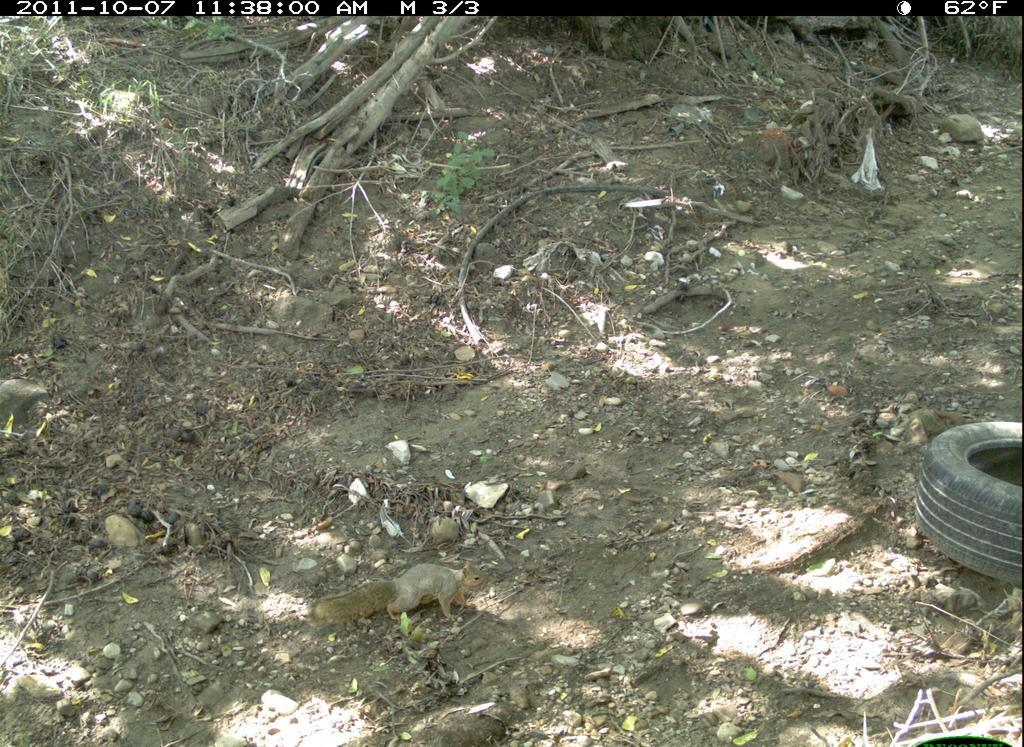squirrel: (292, 552, 496, 643)
